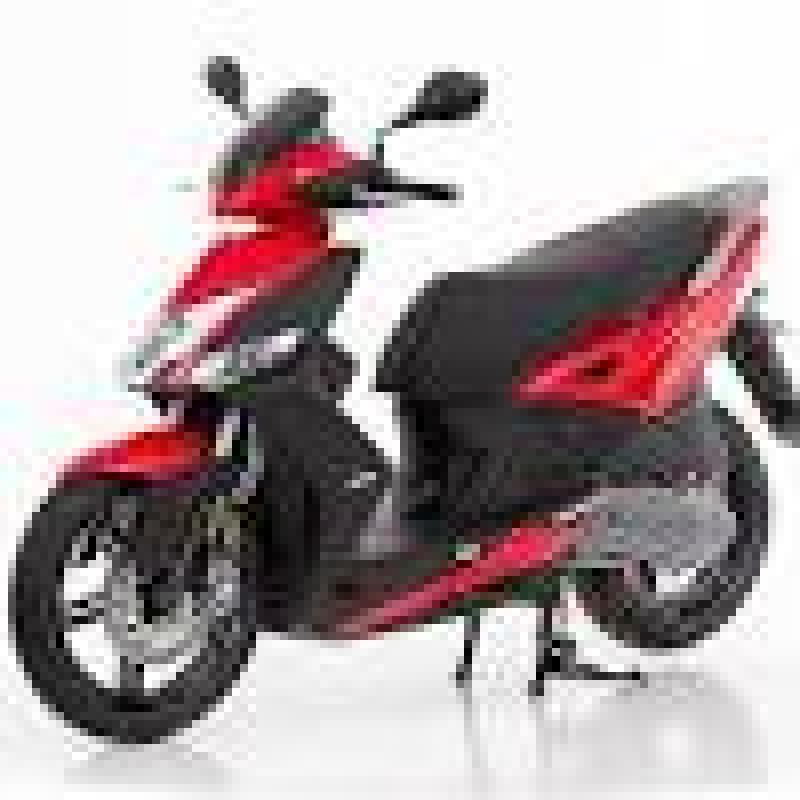bike: (11, 23, 776, 800)
